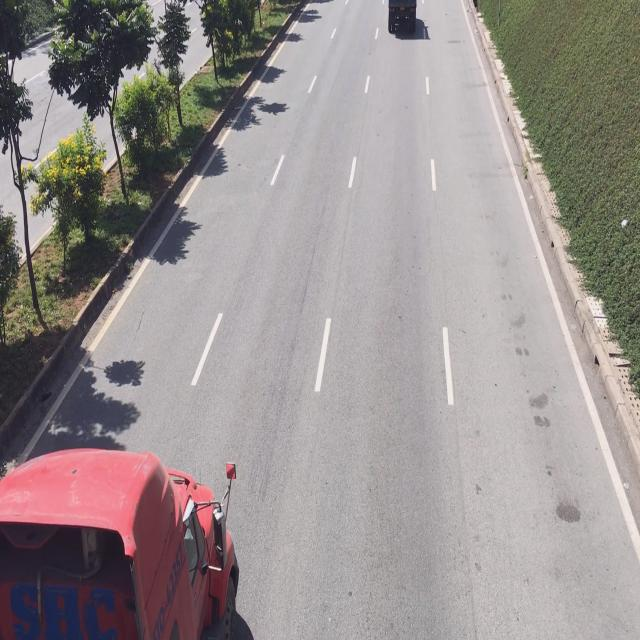truck: (1, 448, 249, 640), (386, 0, 418, 34)
